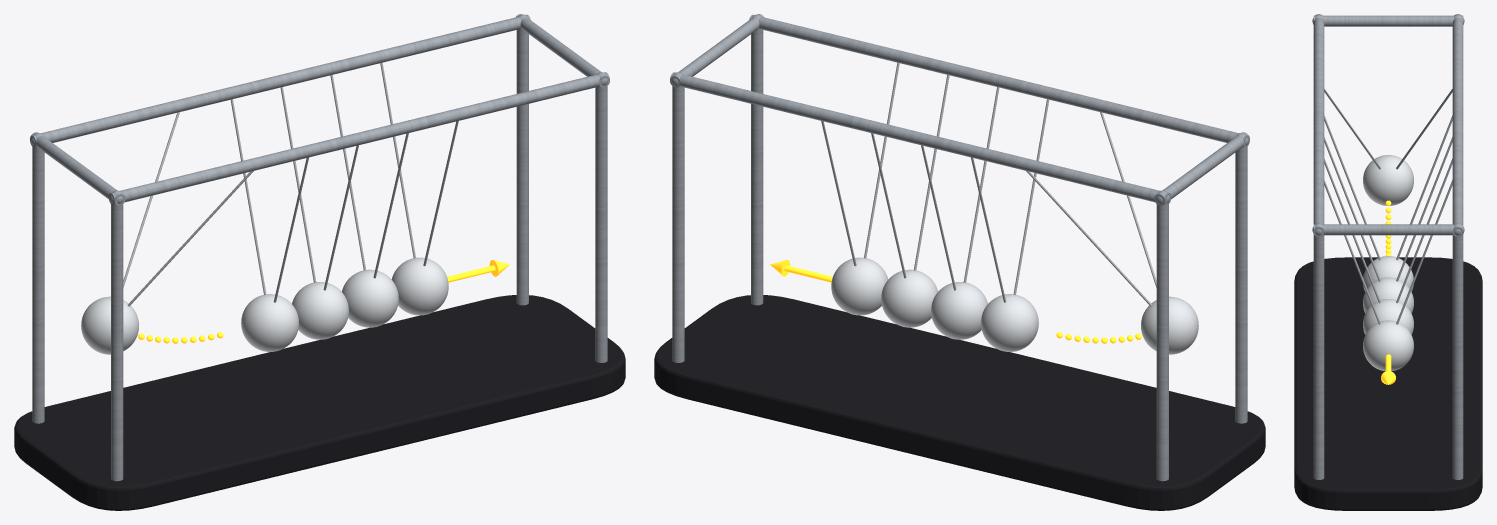
File: newtons-cradle.glb
3 views of the same model, side by side, from view 1: azimuth 30°, elevation 25°; view 2: azimuth 150°, elevation 25°; view 3: azimuth 270°, elevation 25° (orthographic). The views are drawn at different scales.
Visible parts, largest first — view 1: Base, Frame, TransferBalls, Wires, ReceiverBall, ImpactBall, SwingGuide; view 2: Base, Frame, TransferBalls, Wires, ReceiverBall, ImpactBall, SwingGuide; view 3: Base, Frame, Wires, TransferBalls, ImpactBall, ReceiverBall, SwingGuide.
Boxes of the visible parts, <box> form: Base: <box>14,295,625,510</box>; Frame: <box>30,14,609,481</box>; TransferBalls: <box>241,269,398,351</box>; Wires: <box>123,62,458,306</box>; ReceiverBall: <box>391,257,448,315</box>; ImpactBall: <box>81,296,138,354</box>; SwingGuide: <box>138,260,509,343</box>; Base: <box>654,295,1265,510</box>; Frame: <box>670,14,1249,481</box>; TransferBalls: <box>881,269,1038,351</box>; Wires: <box>821,62,1156,306</box>; ReceiverBall: <box>831,257,888,315</box>; ImpactBall: <box>1141,296,1198,354</box>; SwingGuide: <box>770,260,1141,343</box>; Base: <box>1294,257,1482,510</box>; Frame: <box>1312,14,1464,479</box>; Wires: <box>1324,89,1452,324</box>; TransferBalls: <box>1363,256,1413,334</box>; ImpactBall: <box>1363,155,1413,205</box>; ReceiverBall: <box>1363,320,1413,371</box>; SwingGuide: <box>1381,200,1395,384</box>.
Size of the model in its own units: 3.03 by 1.66 by 1.03.
5 materials, 1 textured.
